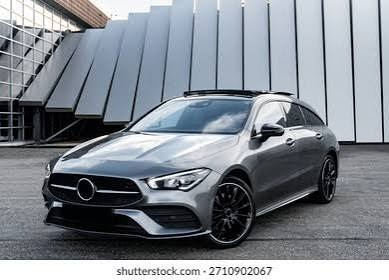car: (37, 87, 352, 249)
